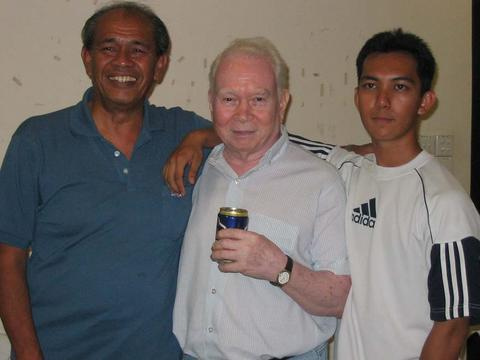person: (1, 1, 217, 360), (172, 27, 354, 360), (309, 13, 480, 360)
